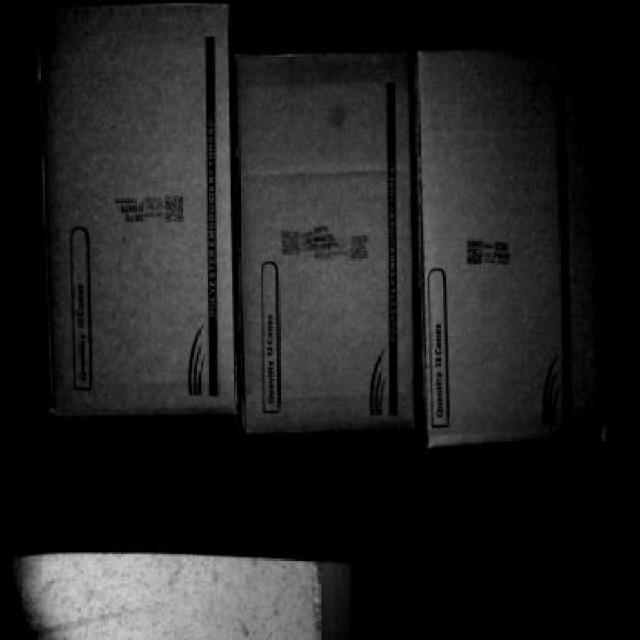cardboxes: (34, 11, 240, 420), (422, 46, 607, 440), (238, 50, 420, 432)
